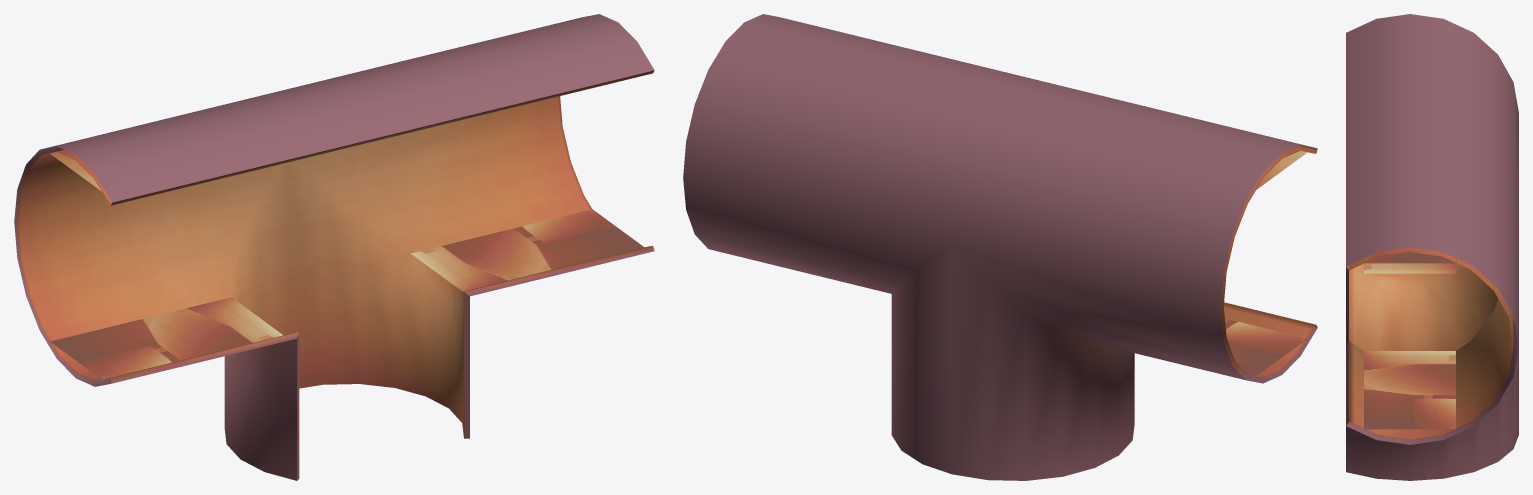
File: openPipe_T 1.fbx
3 renders of one model, left to right at view 1: azimuth 30°, elevation 25°; view 2: azimuth 150°, elevation 25°; view 3: azimuth 270°, elevation 25°, orthographic. The views are drawn at different scales.
Visible parts, largest first — view 1: openPipe_T1, openPipe_T_colFloor03, openPipe_T_colFloor02; view 2: openPipe_T1, openPipe_T_colFloor02; view 3: openPipe_T1, openPipe_T_colFloor03, openPipe_T_colFloor02, openPipe_T_colFloor01.
Boxes of the visible parts, box(x1,y1,x2,y2) form: openPipe_T1: box(14, 14, 654, 480); openPipe_T_colFloor03: box(411, 209, 643, 291); openPipe_T_colFloor02: box(50, 297, 282, 379); openPipe_T1: box(683, 14, 1317, 480); openPipe_T_colFloor02: box(1225, 318, 1307, 376); openPipe_T1: box(1346, 14, 1518, 480); openPipe_T_colFloor03: box(1364, 351, 1455, 429); openPipe_T_colFloor02: box(1364, 263, 1455, 273); openPipe_T_colFloor01: box(1363, 252, 1456, 263).
Size of the model in its own units: 7.47 by 4.53 by 2.33.
Materials: 1 (1 with a texture image).
